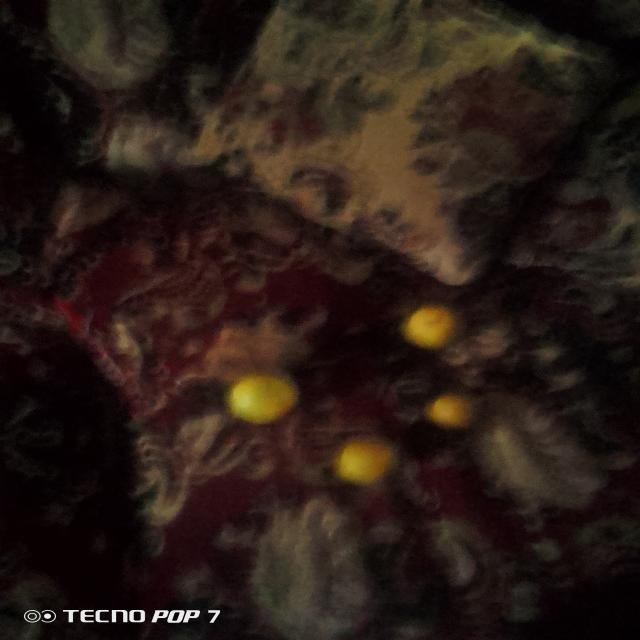agrume: (212, 367, 308, 433), (329, 433, 400, 496), (421, 385, 486, 435), (390, 304, 462, 349)
